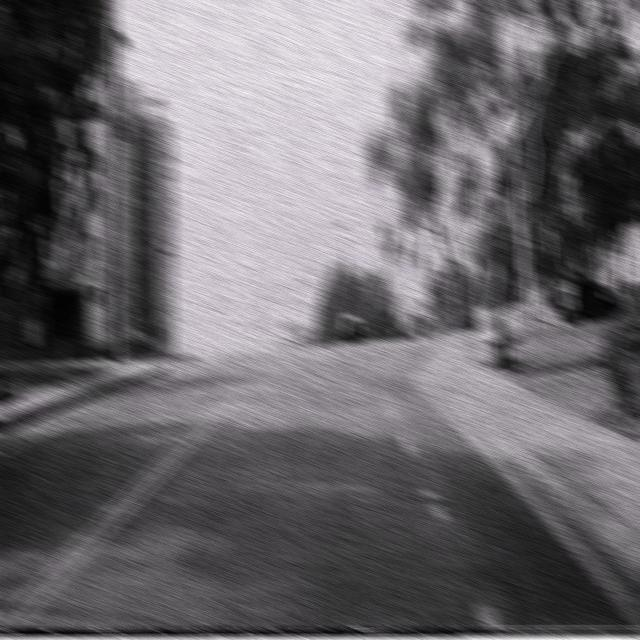stop_sign: (467, 232, 488, 266)
